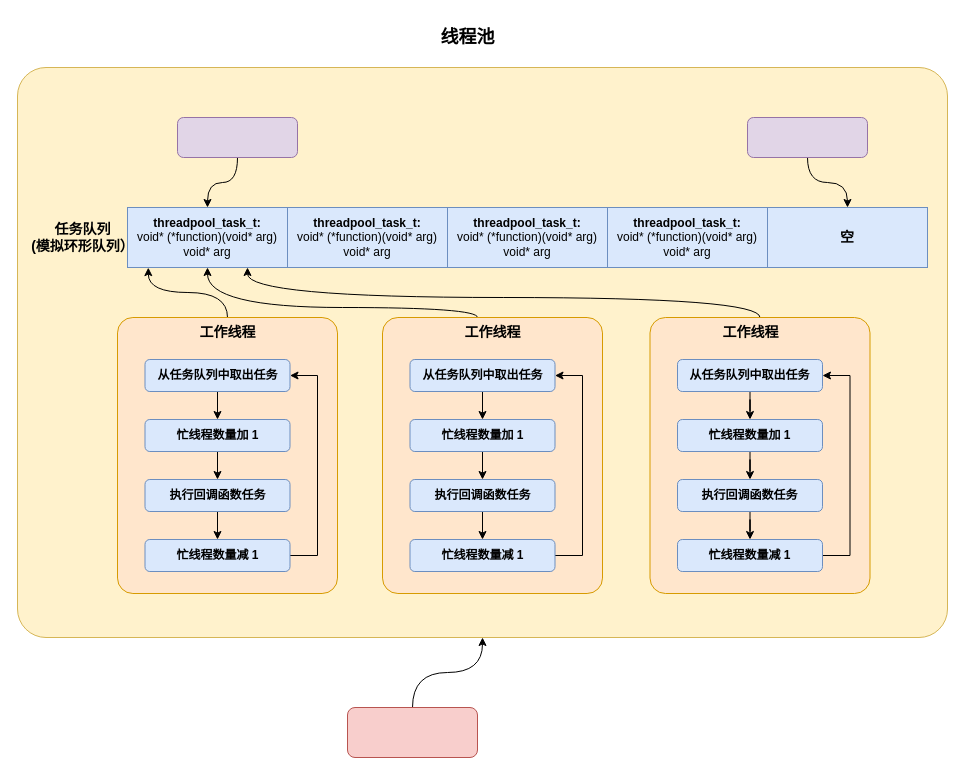
Image size: 965x775. Some labels were removed from this diagram. The shapes that lost their labels are listed below. From the top down, each one's centre as x and y in pixels, then its label:
the point at 237,137: queue_front 指针
the point at 807,137: queue_rear 指针
the point at 412,732: adjust_thread
